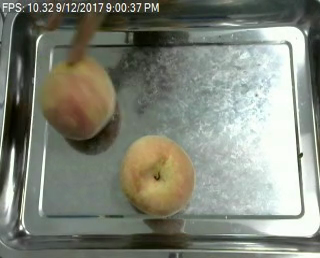Peach: (38, 54, 115, 140), (119, 134, 194, 216)
